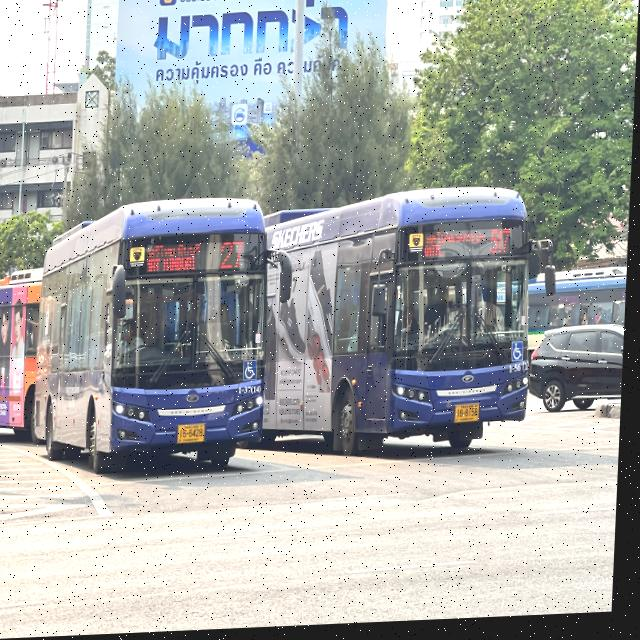BMTA-bus: (0, 269, 47, 440)
Bus-Line-Number: (219, 241, 251, 274), (489, 231, 517, 261)
Destination-Sign-Normal: (147, 240, 211, 278), (426, 230, 490, 263)
TSB-Bus: (258, 189, 540, 463), (33, 197, 282, 480)
